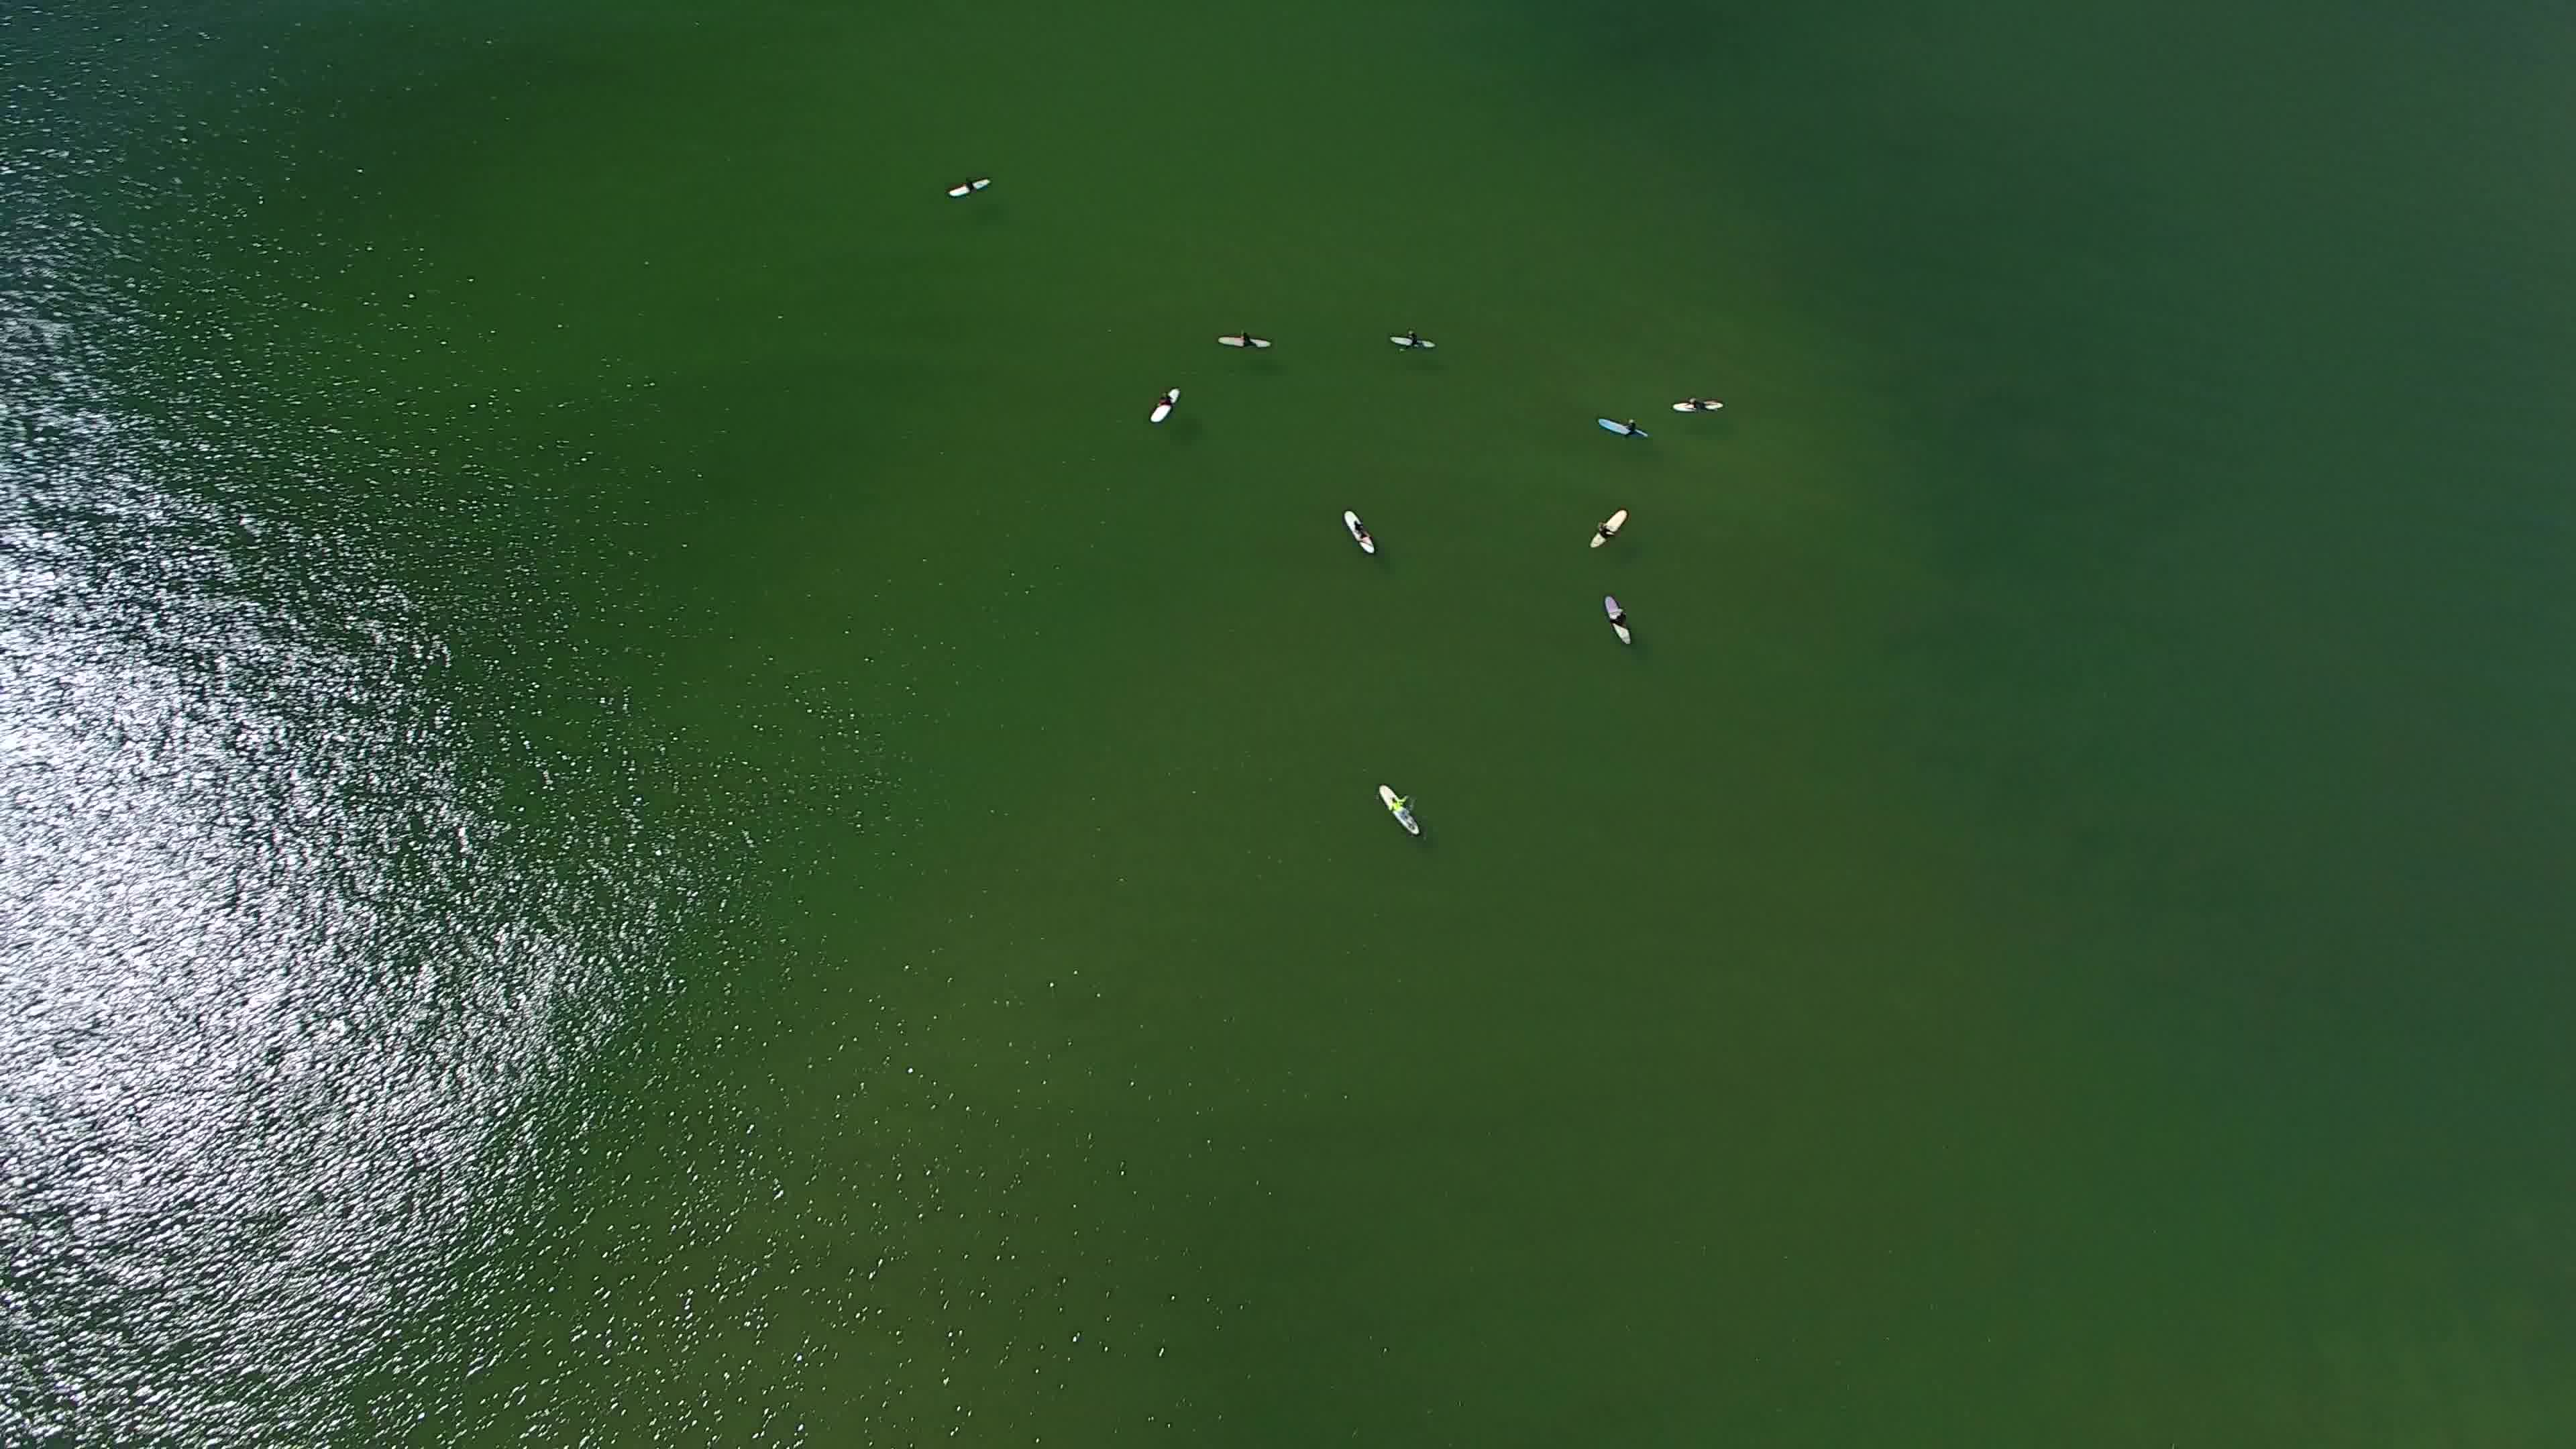surfer: (1371, 777, 1426, 840), (1338, 506, 1389, 564), (1599, 582, 1640, 655), (1200, 320, 1276, 357), (1591, 412, 1658, 449), (1382, 326, 1451, 357), (1591, 506, 1629, 556), (941, 170, 1001, 202), (1154, 382, 1182, 430), (1670, 395, 1729, 418)
